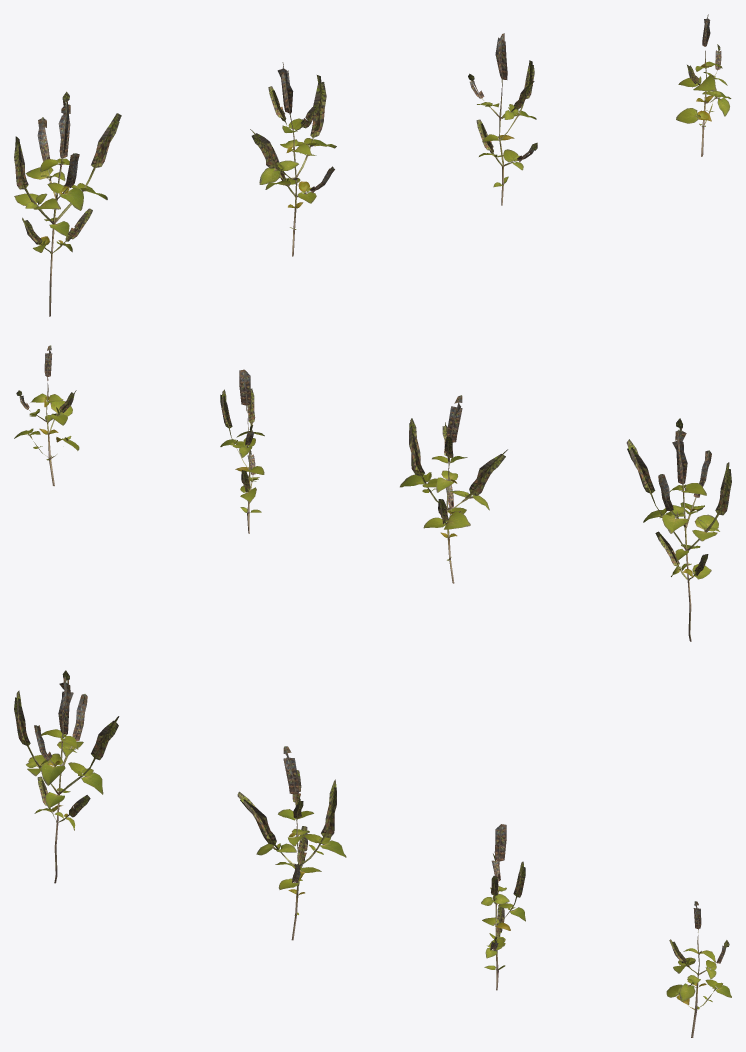
File: shrub_03_lod0.gltf
The picture shows the model from 3 angles, top to bottom: view 1: azimuth 30°, elevation 25°; view 2: azimuth 150°, elevation 25°; view 3: azimuth 330°, elevation 25°; orthographic projection. The views are drawn at different scales.
Parts seen in each view (by area): view 1: shrub_03_lod0; view 2: shrub_03_lod0; view 3: shrub_03_lod0.
Boxes of the visible parts, bbox=[...] form: shrub_03_lod0: bbox=[14, 14, 731, 316]; shrub_03_lod0: bbox=[14, 345, 731, 641]; shrub_03_lod0: bbox=[14, 670, 731, 1037].
Size of the model in its own units: 1.37 by 0.4028 by 0.1512.
Materials: 1 (1 with a texture image).
